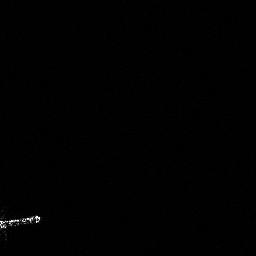ship: (1, 215, 42, 229)
